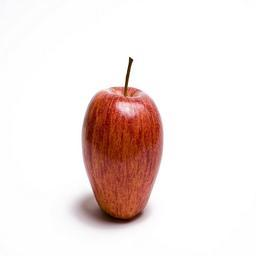apple: (81, 83, 163, 219)
